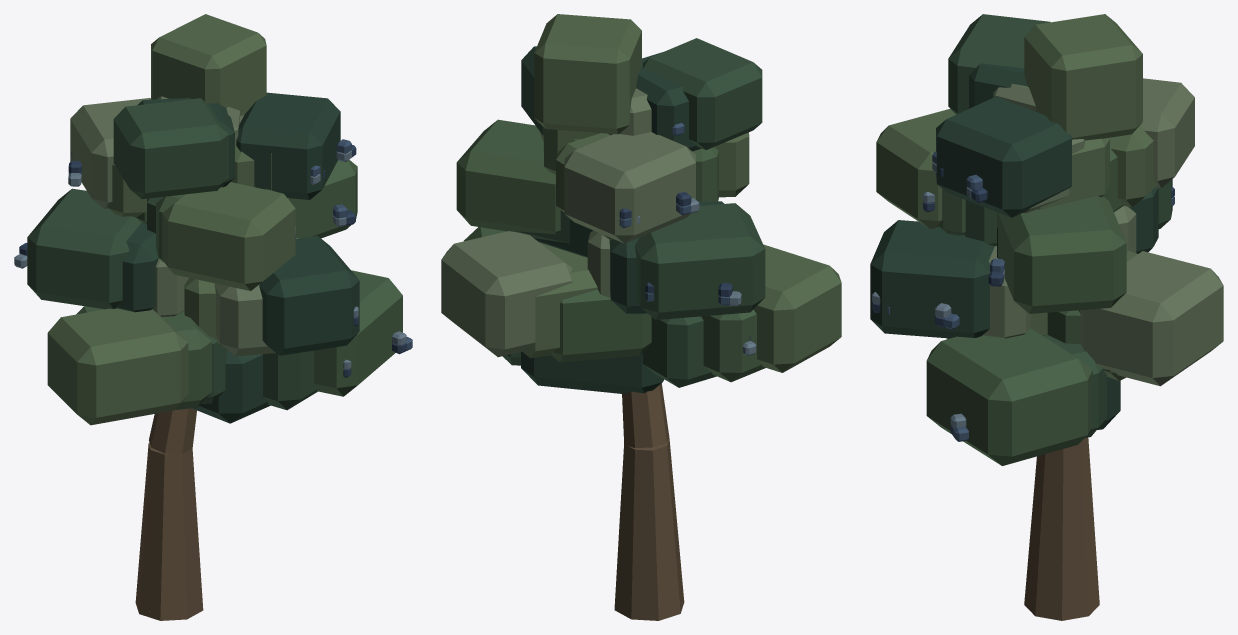
File: juniper_ancient_2.glb
3 views of the same model, side by side, from view 1: azimuth 30°, elevation 25°; view 2: azimuth 150°, elevation 25°; view 3: azimuth 270°, elevation 25° (orthographic). The views are drawn at different scales.
Parts seen in each view (by area): view 1: juniper_ancient_2; view 2: juniper_ancient_2; view 3: juniper_ancient_2.
Boxes of the visible parts, x1,y1,x2,y2 form: juniper_ancient_2: (14, 14, 412, 620); juniper_ancient_2: (441, 14, 841, 620); juniper_ancient_2: (870, 14, 1223, 620).
Bounding box in the file's own units: 10.38 × 16 × 8.6.
